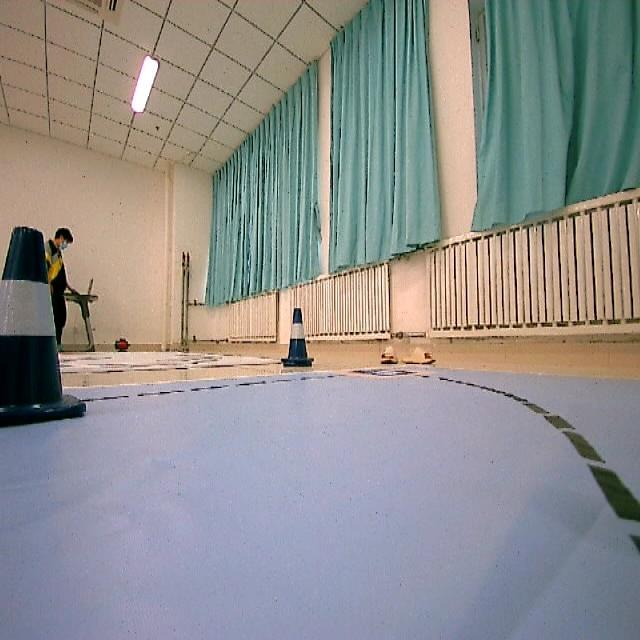obstacle: (0, 230, 87, 444), (280, 304, 319, 370)
